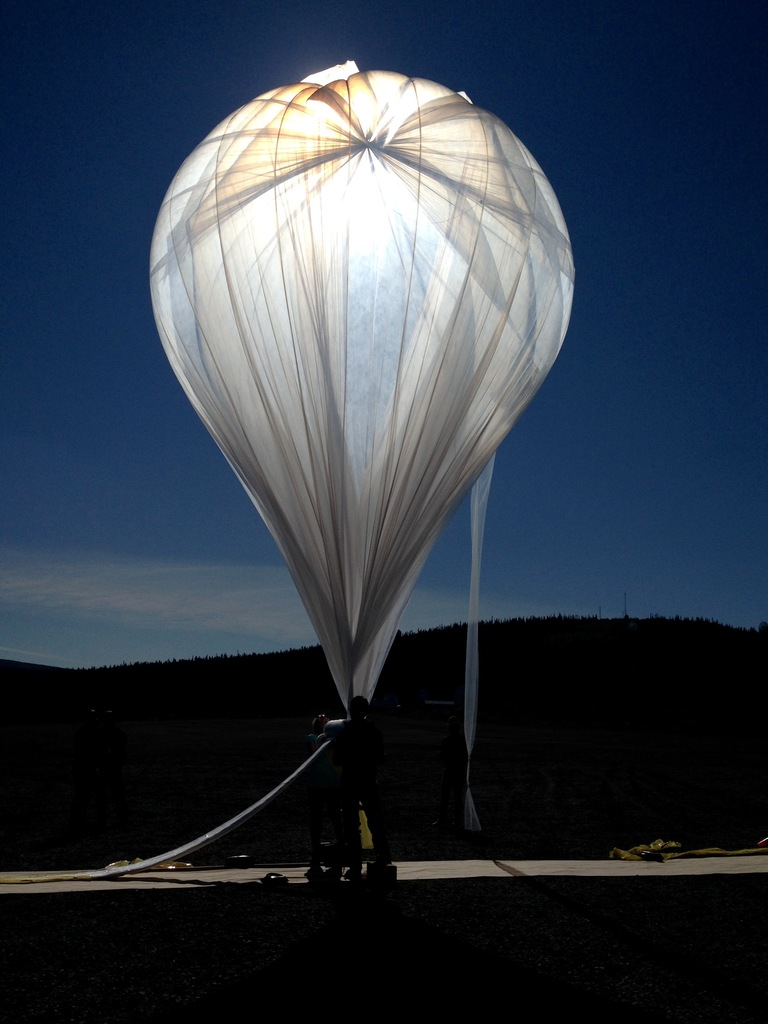person: (302, 710, 346, 880)
